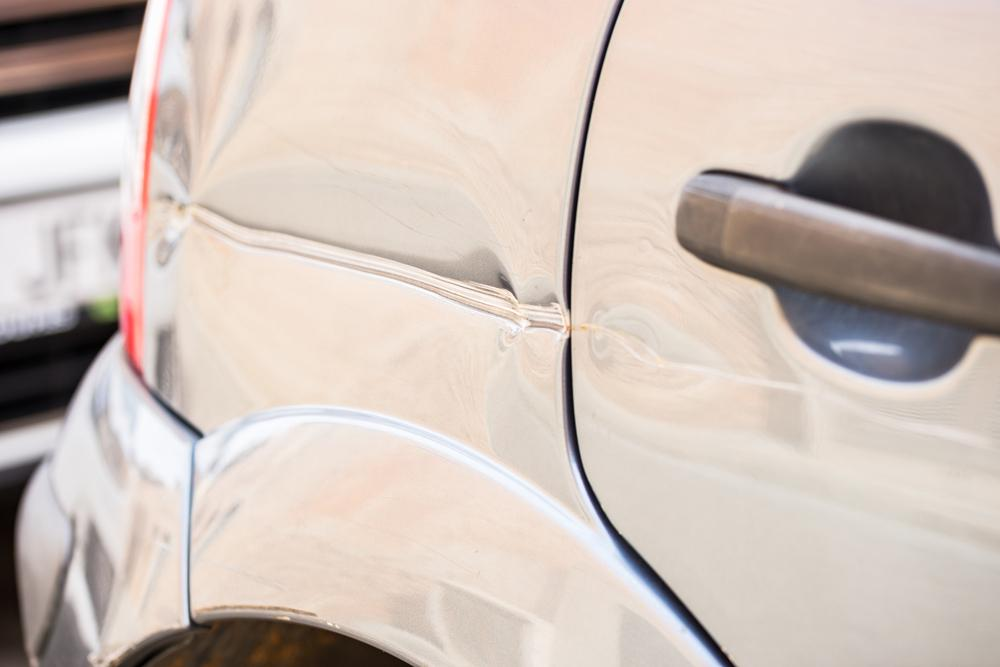dent: (190, 171, 565, 449), (588, 305, 725, 394)
